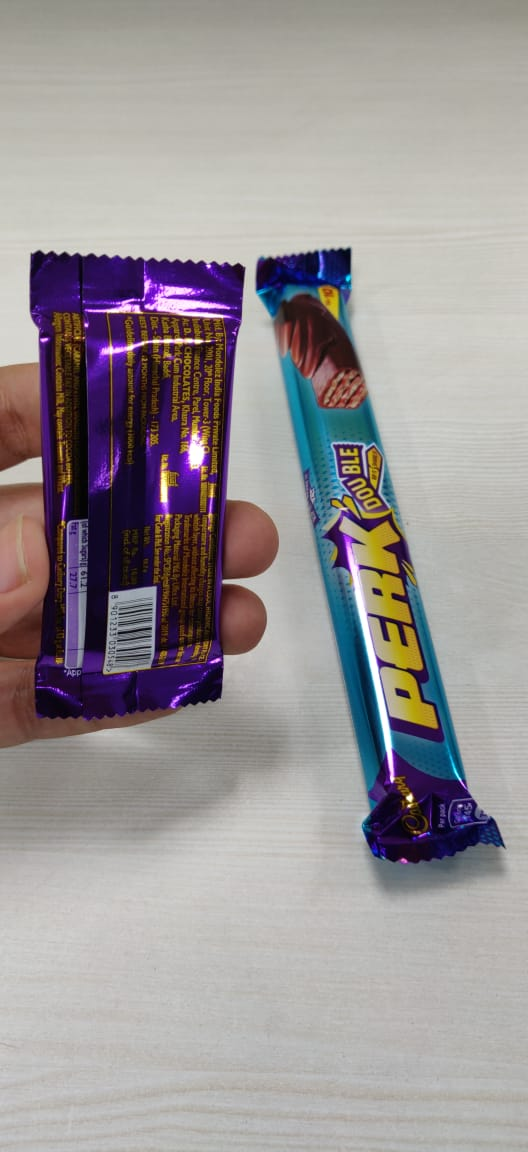dairy milk: (13, 239, 252, 739)
perk: (248, 239, 515, 899)
